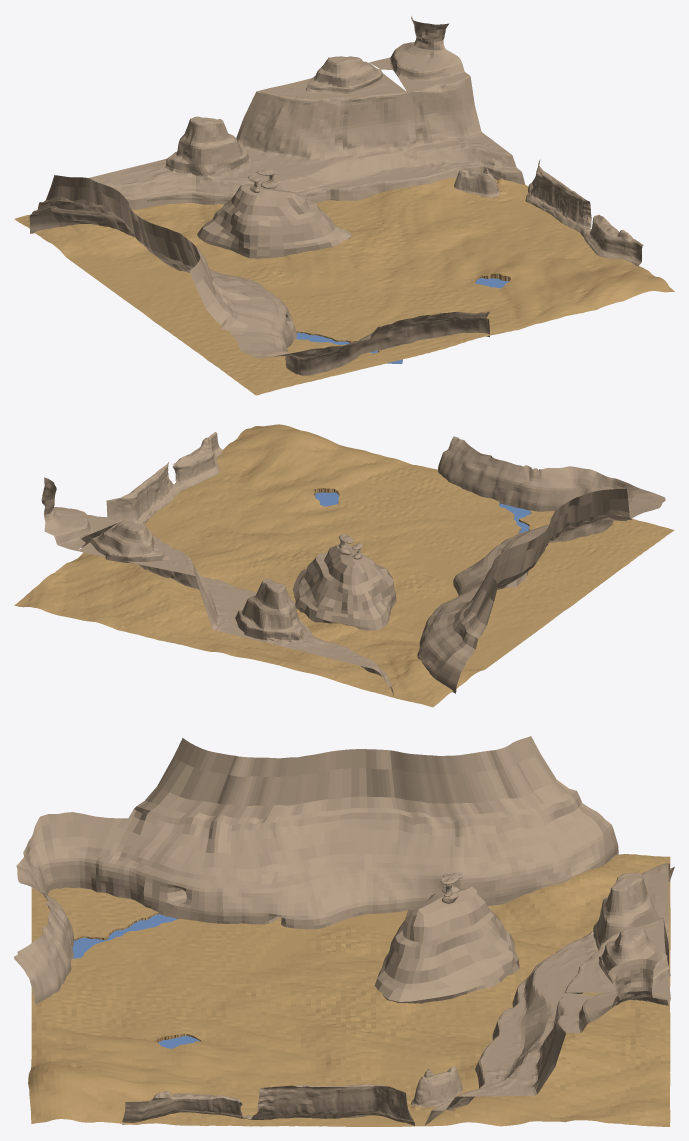
Rendered from topo_03.fbx.
3 renders of one model, top to bottom at view 1: azimuth 30°, elevation 25°; view 2: azimuth 150°, elevation 25°; view 3: azimuth 270°, elevation 25°, orthographic. The views are drawn at different scales.
Visible parts, largest first — view 1: ground:Ground, ground:polySurface3, mountain_01_Zbrush:pPlane2, mountain_02_Zbrush:polySurface3, mountain_05_Zbrush:Group37947, ground:polySurface2; view 2: ground:Ground, mountain_01_Zbrush:pPlane2, ground:polySurface3, mountain_02_Zbrush:polySurface3, mountain_05_Zbrush:Group37947; view 3: ground:Ground, mountain_01_Zbrush:pPlane2, ground:polySurface3, mountain_02_Zbrush:polySurface3, mountain_05_Zbrush:Group37947, ground:polySurface2, ground:water.
Part boxes in pixels (x1,y1,x2,y2): ground:Ground: [14, 177, 674, 395]; ground:polySurface3: [88, 16, 525, 209]; mountain_01_Zbrush:pPlane2: [29, 175, 489, 375]; mountain_02_Zbrush:polySurface3: [197, 169, 351, 258]; mountain_05_Zbrush:Group37947: [525, 159, 643, 266]; ground:polySurface2: [454, 167, 499, 197]; ground:Ground: [14, 424, 674, 707]; mountain_01_Zbrush:pPlane2: [417, 436, 665, 693]; ground:polySurface3: [41, 477, 393, 696]; mountain_02_Zbrush:polySurface3: [292, 534, 396, 630]; mountain_05_Zbrush:Group37947: [106, 432, 222, 523]; ground:Ground: [28, 854, 670, 1126]; mountain_01_Zbrush:pPlane2: [14, 736, 618, 1004]; ground:polySurface3: [425, 863, 674, 1125]; mountain_02_Zbrush:polySurface3: [374, 873, 519, 1003]; mountain_05_Zbrush:Group37947: [122, 1084, 414, 1126]; ground:polySurface2: [411, 1066, 462, 1107]; ground:water: [72, 914, 177, 958].
Size of the model in its own units: 3520 by 980 by 3476.
3 materials, 1 textured.
